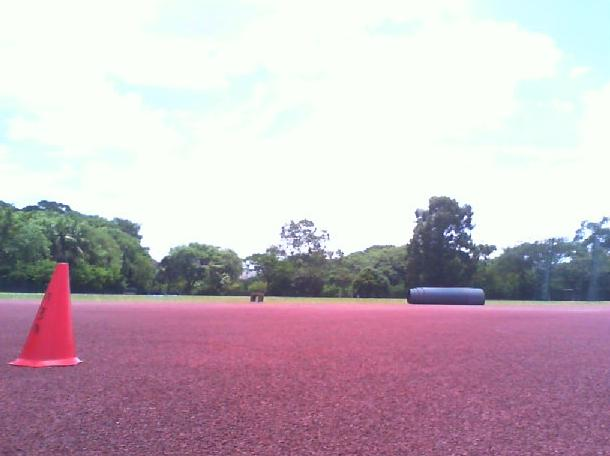0 cone: (7, 263, 81, 368)
